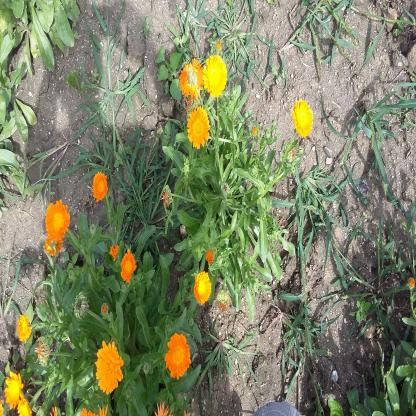marigold: (94, 340, 123, 396), (165, 332, 191, 379), (203, 53, 228, 98), (178, 58, 205, 99), (44, 200, 70, 242), (186, 105, 209, 149), (291, 98, 313, 138), (4, 370, 24, 408), (192, 270, 212, 304), (120, 250, 136, 284), (92, 171, 108, 203), (43, 234, 63, 255), (16, 313, 31, 340)
